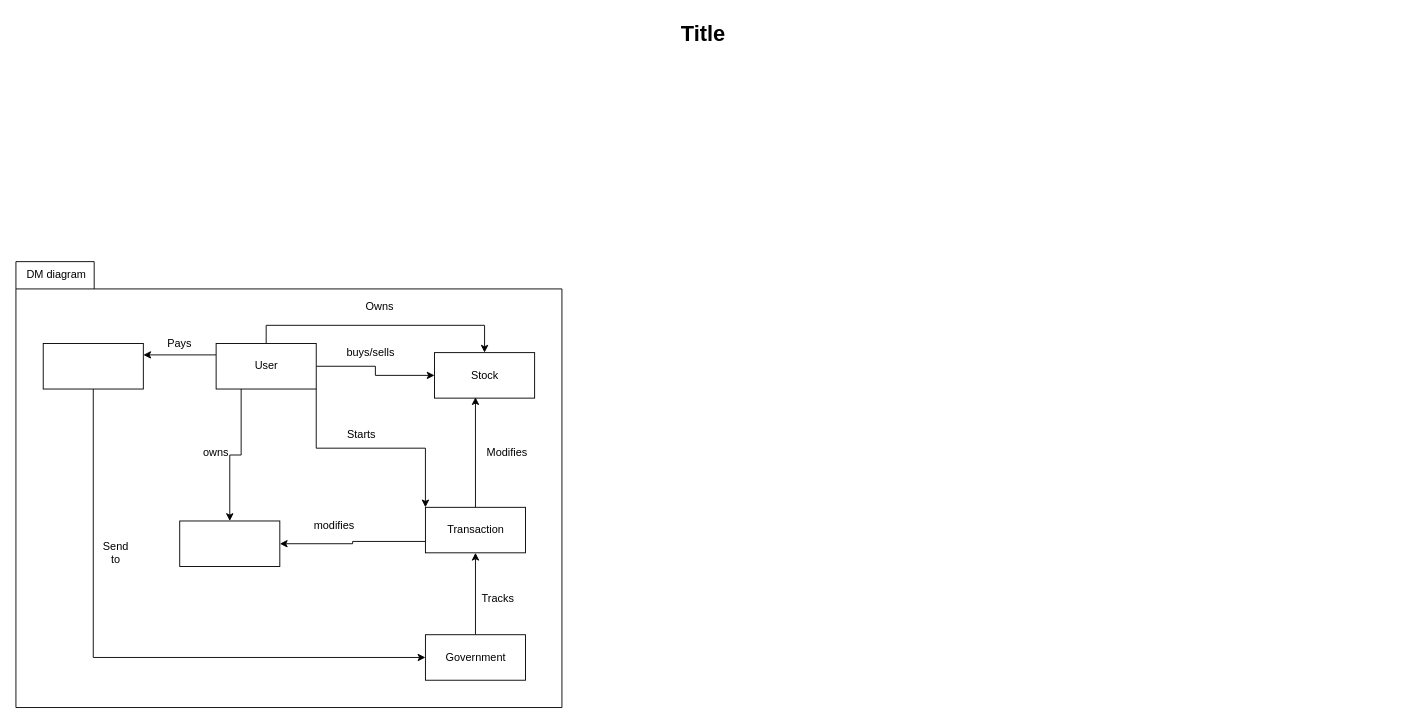
The diagram is 1406 pixels wide and 723 high, and some of its shapes have lost their labels. The centre of each missing label's shape, as x and y in pixels:
"Funds" goes at [229,543].
"Tax" goes at [92,366].
